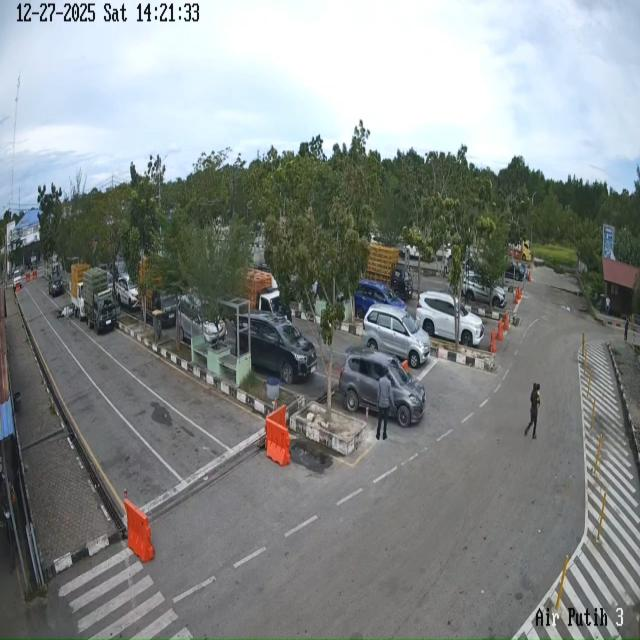Golongan IVA: (338, 346, 426, 427), (239, 311, 317, 384), (362, 304, 430, 369), (416, 291, 484, 347), (178, 295, 227, 347), (354, 279, 406, 320), (463, 271, 506, 308), (116, 276, 139, 309), (48, 272, 64, 298)
Golongan IVB: (82, 267, 116, 334)
